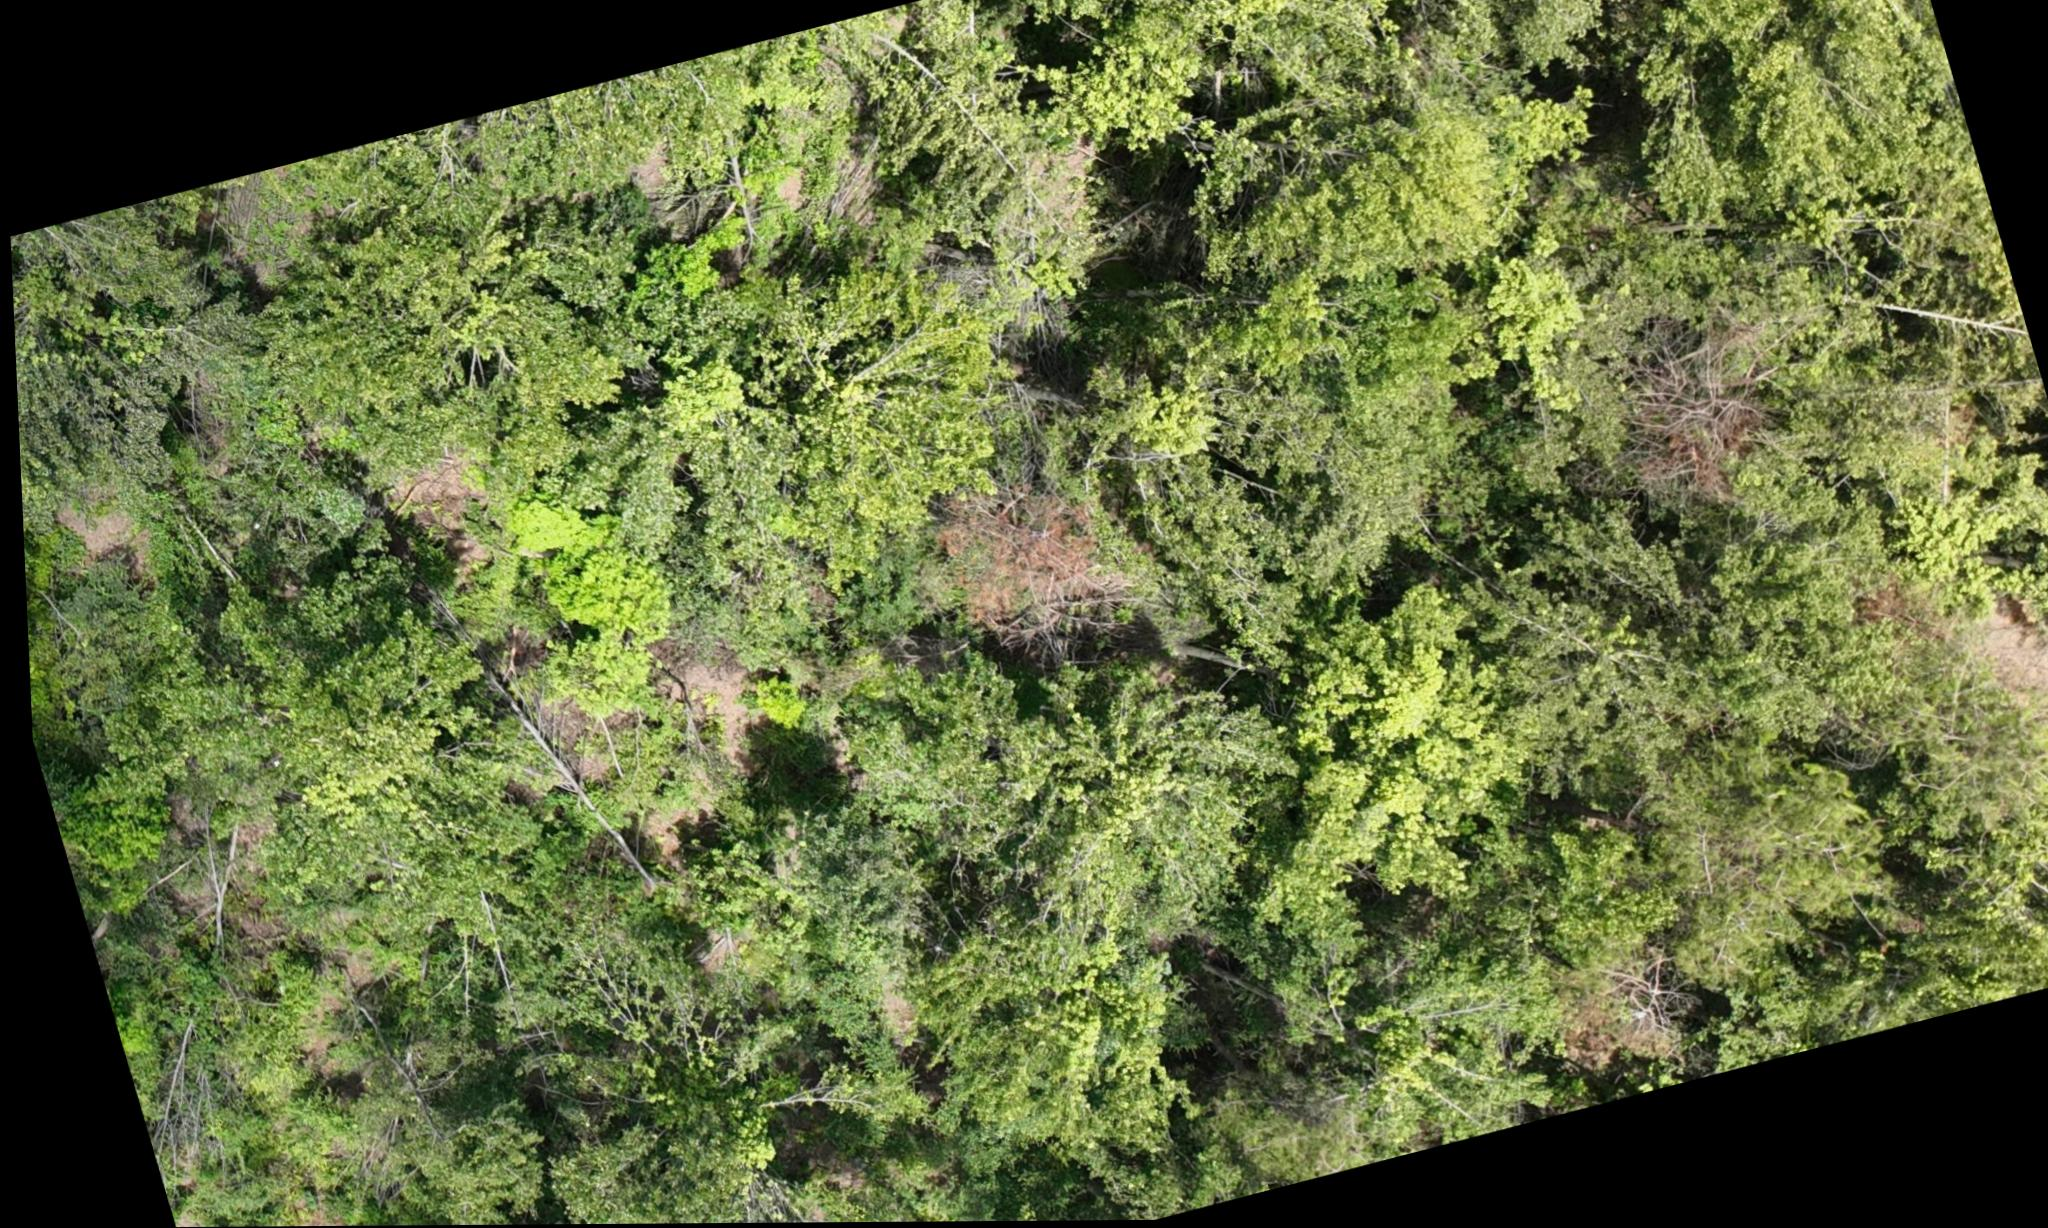heavy: (919, 460, 1133, 677), (1607, 344, 1785, 531)
